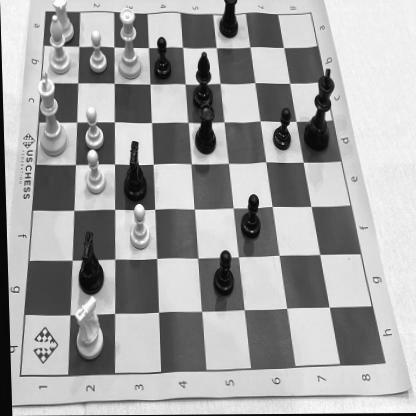black-bishop: (187, 46, 216, 114)
black-king: (300, 65, 340, 155)
black-knight: (118, 134, 152, 204), (71, 228, 105, 296)
black-pawn: (208, 247, 236, 298), (238, 192, 263, 242), (150, 31, 174, 82), (270, 104, 294, 154)
black-rook: (190, 102, 219, 158), (216, 0, 244, 43)
white-bishop: (45, 13, 74, 78)
white-king: (34, 69, 69, 160)
white-knight: (70, 292, 108, 364)
white-pawn: (126, 202, 154, 253), (80, 146, 108, 196), (84, 26, 110, 76), (80, 104, 105, 152)
white-queen: (112, 3, 145, 84)
white-rook: (48, 0, 79, 49)
